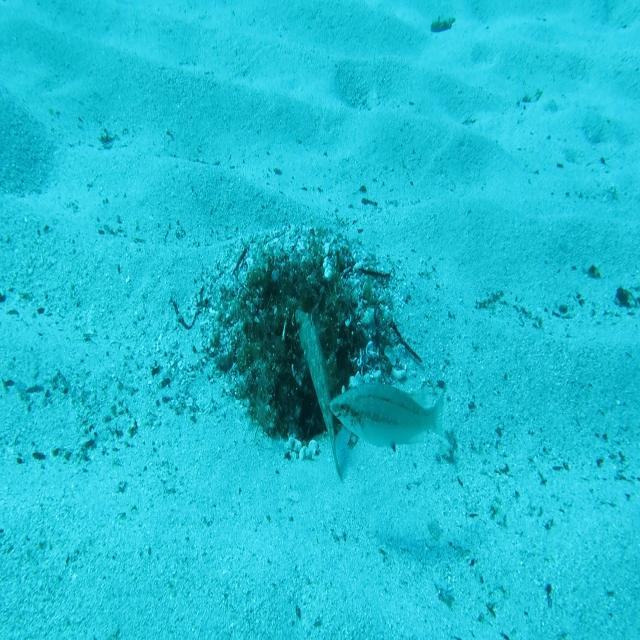FAN: (292, 304, 344, 484)
core_nest: (275, 272, 324, 312)
female: (328, 373, 447, 458)
nest: (188, 219, 410, 471)
vegetation: (426, 15, 457, 36)
